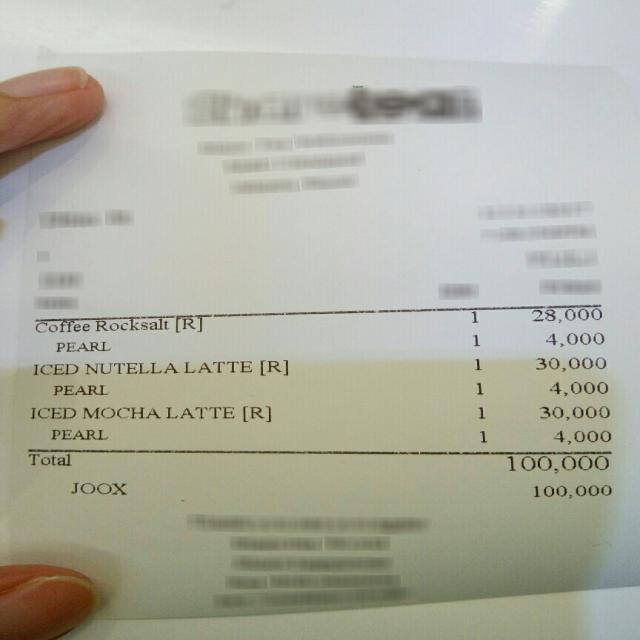kertas: (4, 51, 638, 620)
